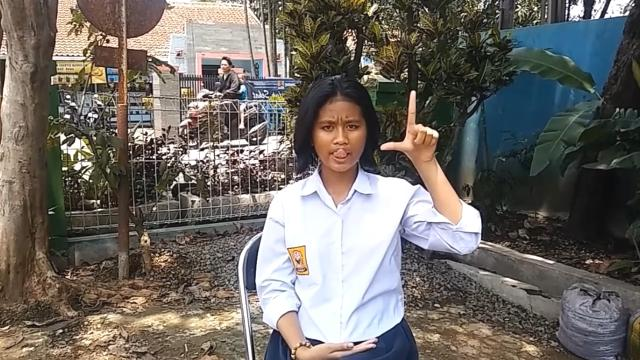L: (379, 88, 441, 166)
